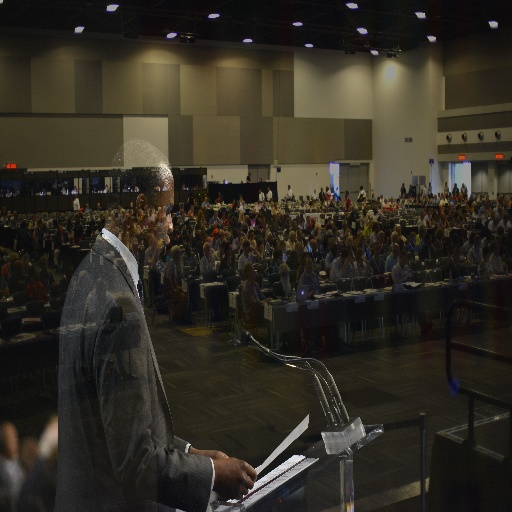hand: (207, 445, 264, 488), (195, 448, 228, 458), (307, 288, 314, 299), (344, 253, 350, 262), (316, 226, 322, 234), (173, 287, 177, 298), (249, 245, 255, 252), (258, 244, 264, 251), (344, 225, 350, 232), (265, 296, 272, 301), (407, 272, 412, 279), (208, 249, 212, 257), (238, 236, 242, 244), (444, 214, 447, 220)
